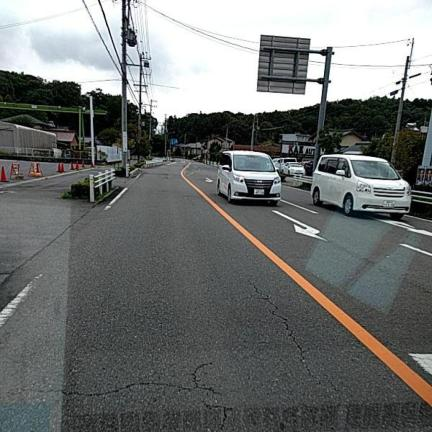Road: (0, 161, 431, 431)
